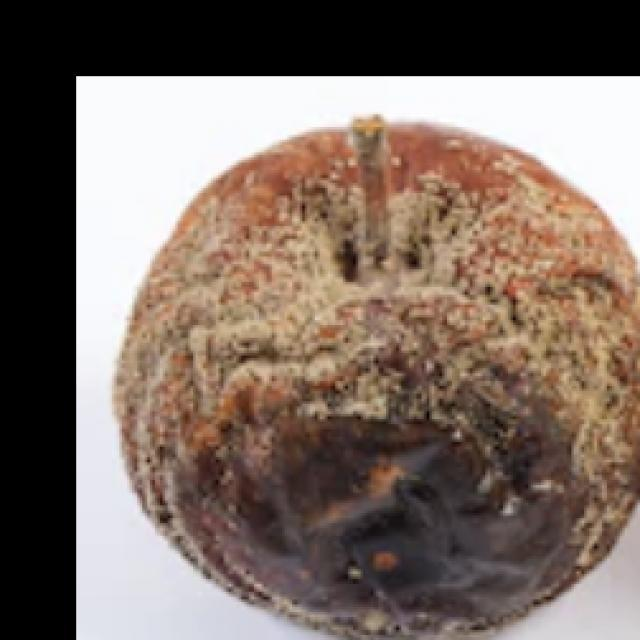Rotten: (145, 115, 640, 640)
